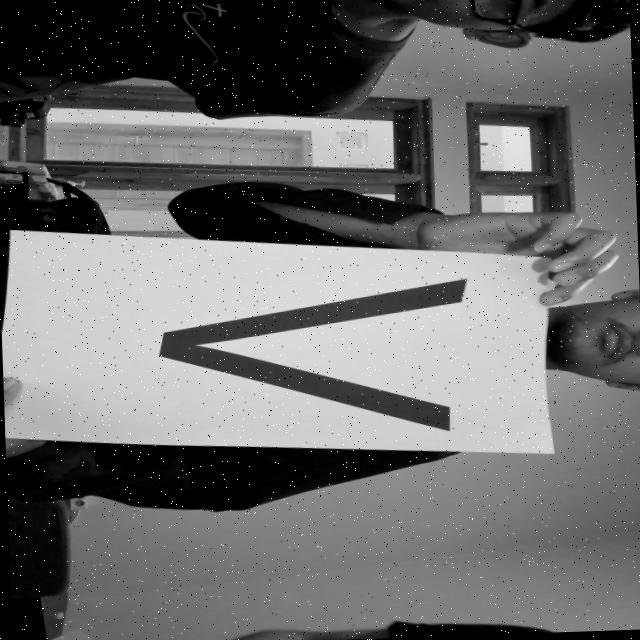v: (125, 268, 488, 458)
